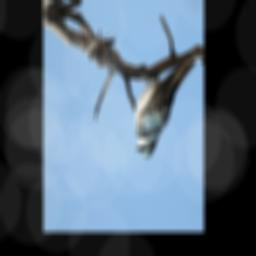Swallow: (132, 57, 199, 160)
